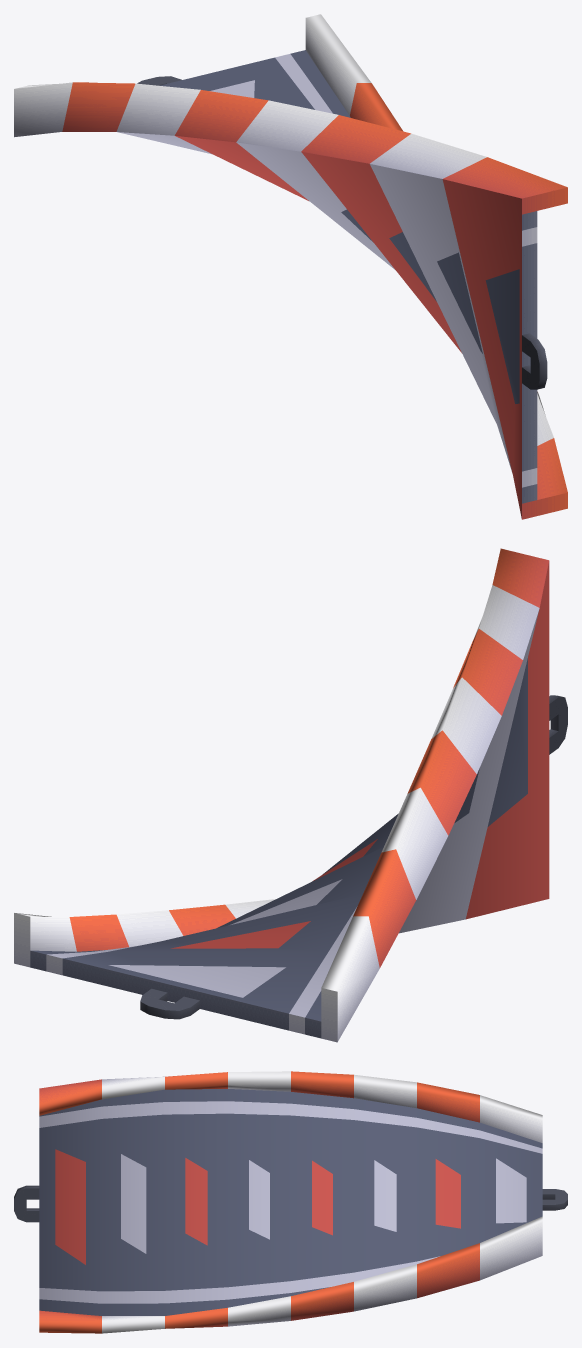
Rendered from track-road-wide-straight-skew-left-side.glb.
3 renders of one model, top to bottom at view 1: azimuth 30°, elevation 25°; view 2: azimuth 150°, elevation 25°; view 3: azimuth 270°, elevation 25°, orthographic. The views are drawn at different scales.
Parts seen in each view (by area): view 1: track-road-wide-straight-skew-left-side; view 2: track-road-wide-straight-skew-left-side; view 3: track-road-wide-straight-skew-left-side.
Part boxes in pixels (box(x1,y1,x2,y2)): track-road-wide-straight-skew-left-side: box(14, 14, 567, 519); track-road-wide-straight-skew-left-side: box(14, 548, 567, 1042); track-road-wide-straight-skew-left-side: box(14, 1071, 567, 1333).
Bounding box in the file's own units: 2.04 × 2.04 × 4.4.
1 material, 1 textured.
